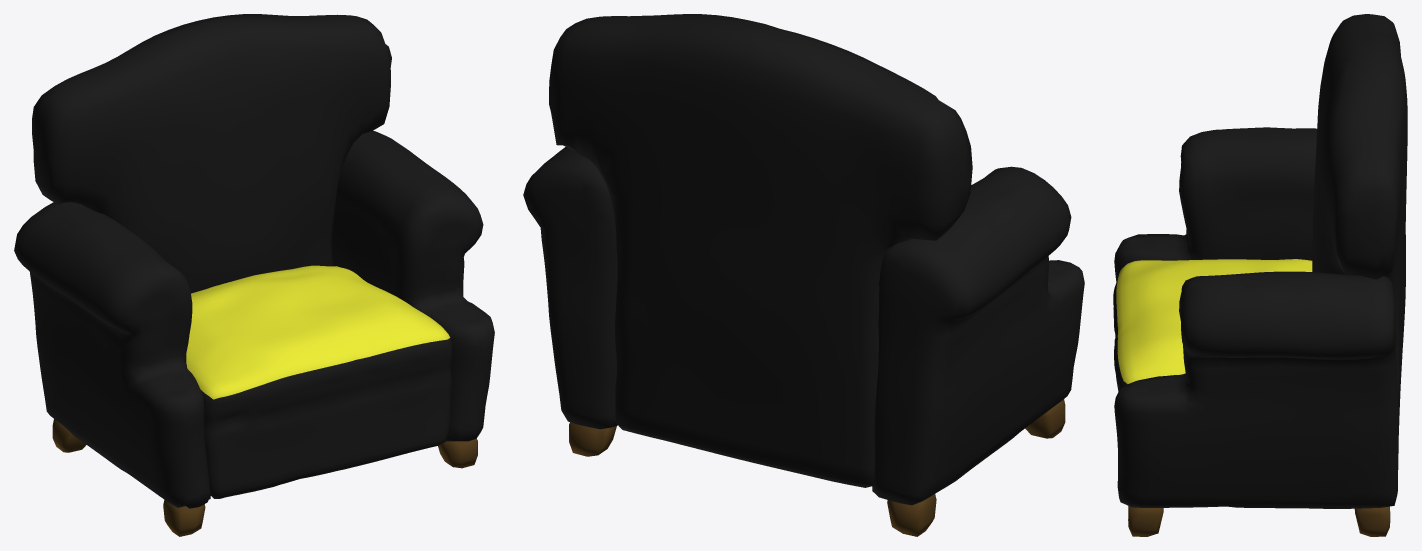
Rendered from Armchair.glb.
3 renders of one model, left to right at view 1: azimuth 30°, elevation 25°; view 2: azimuth 150°, elevation 25°; view 3: azimuth 270°, elevation 25°, orthographic. The views are drawn at different scales.
Parts seen in each view (by area): view 1: back_low, side_low, bottom_low, legs; view 2: back_low, side_low, legs; view 3: side_low, back_low, bottom_low, legs.
Part boxes in pixels (bbox=[...]): back_low: bbox=[32, 14, 391, 293]; side_low: bbox=[14, 131, 494, 508]; bottom_low: bbox=[186, 265, 452, 498]; legs: bbox=[52, 419, 477, 536]; back_low: bbox=[549, 14, 972, 487]; side_low: bbox=[523, 147, 1084, 505]; legs: bbox=[569, 399, 1065, 536]; side_low: bbox=[1114, 127, 1398, 508]; back_low: bbox=[1312, 14, 1407, 434]; bottom_low: bbox=[1113, 259, 1312, 391]; legs: bbox=[1128, 506, 1390, 536].
Size of the model in its own units: 1.3 by 1.27 by 0.8382.
